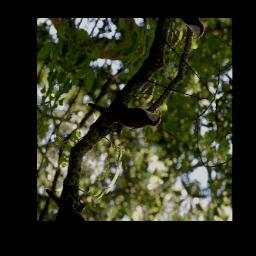Cuckoo: (84, 70, 166, 149)
